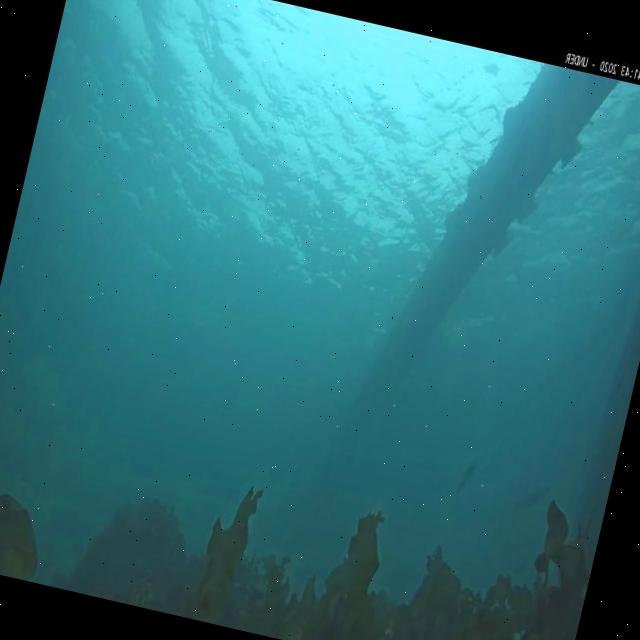fish: (500, 481, 550, 525), (450, 456, 478, 501)
